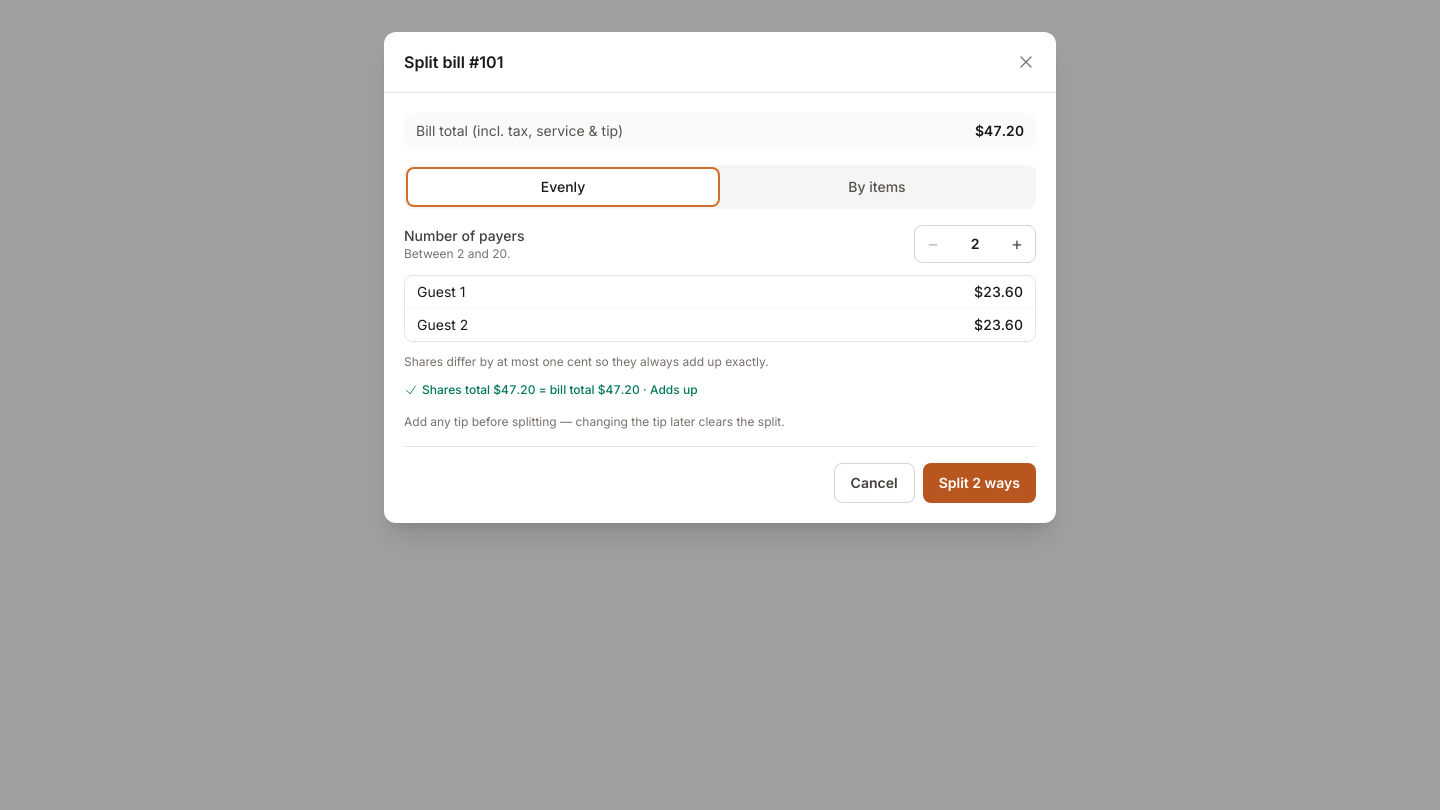
Scenario: SplitDialog › returns items to unassigned when their guest is removed
The image size is (1440, 810).
Click the tab "By items" at coordinates (877, 187), box 722,169 -> 1032,205
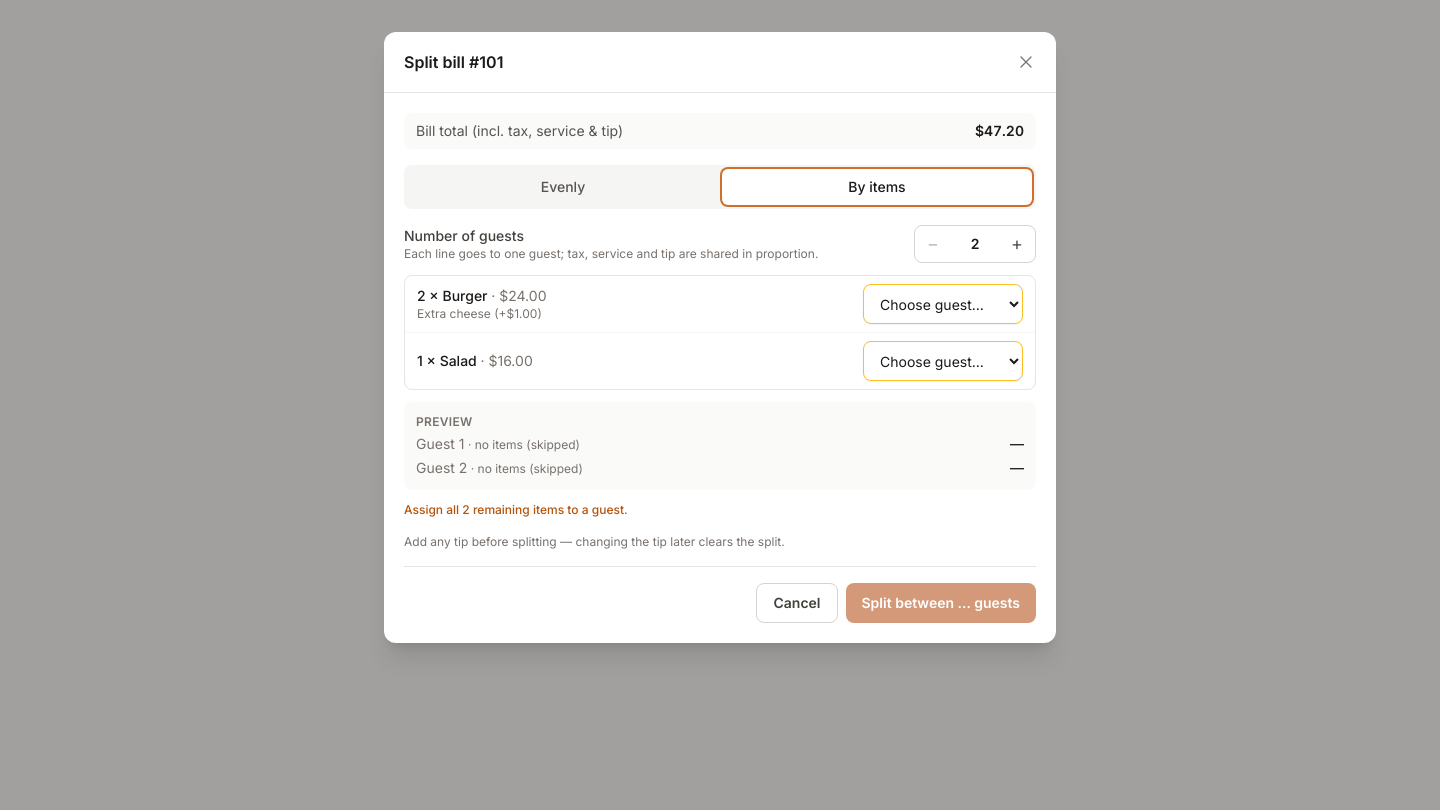
Click the button named "More guests" at coordinates (1017, 244), box 999,226 -> 1035,262
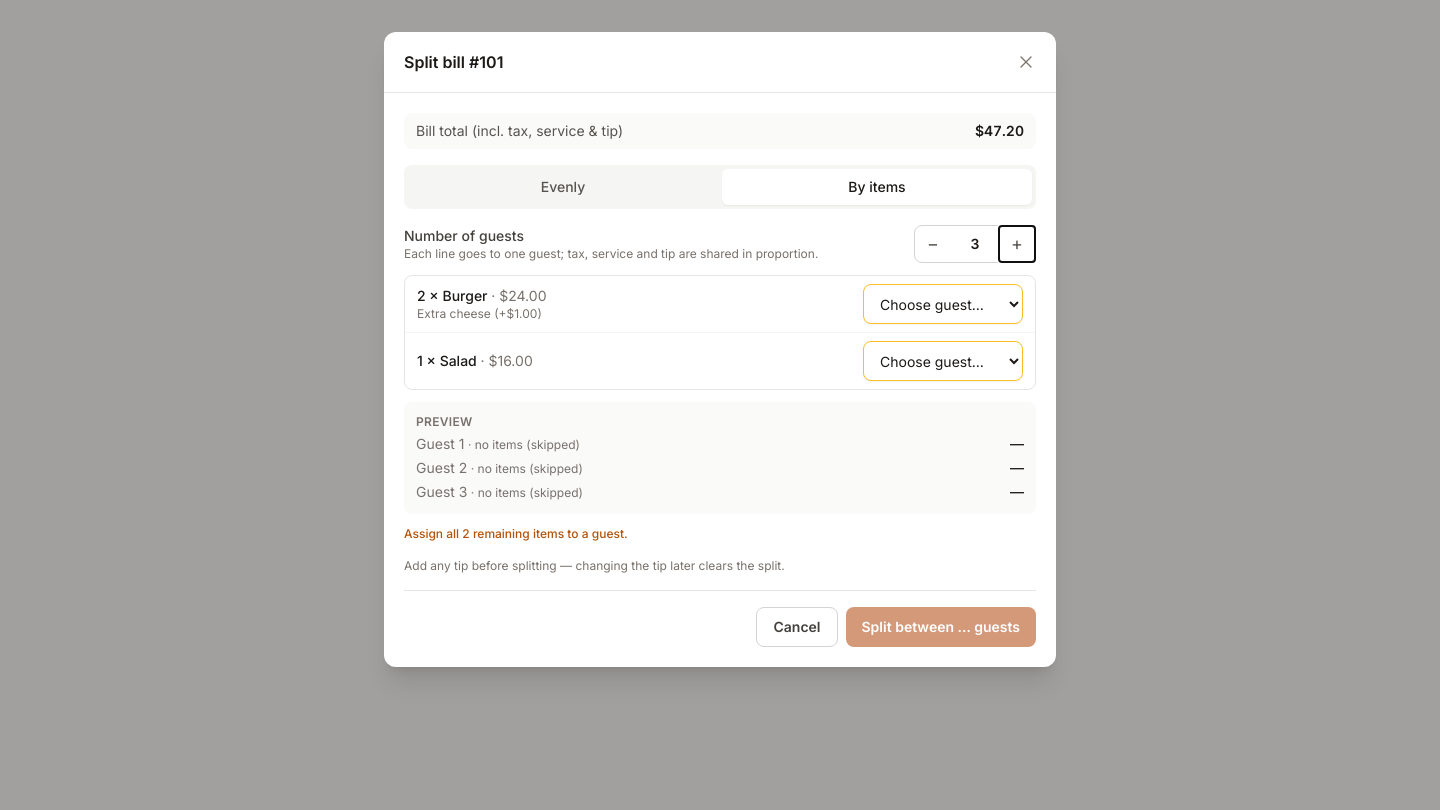
Select "Guest 1" in the dropdown named "Guest paying for Burger" at coordinates (943, 304), box 863,284 -> 1023,324
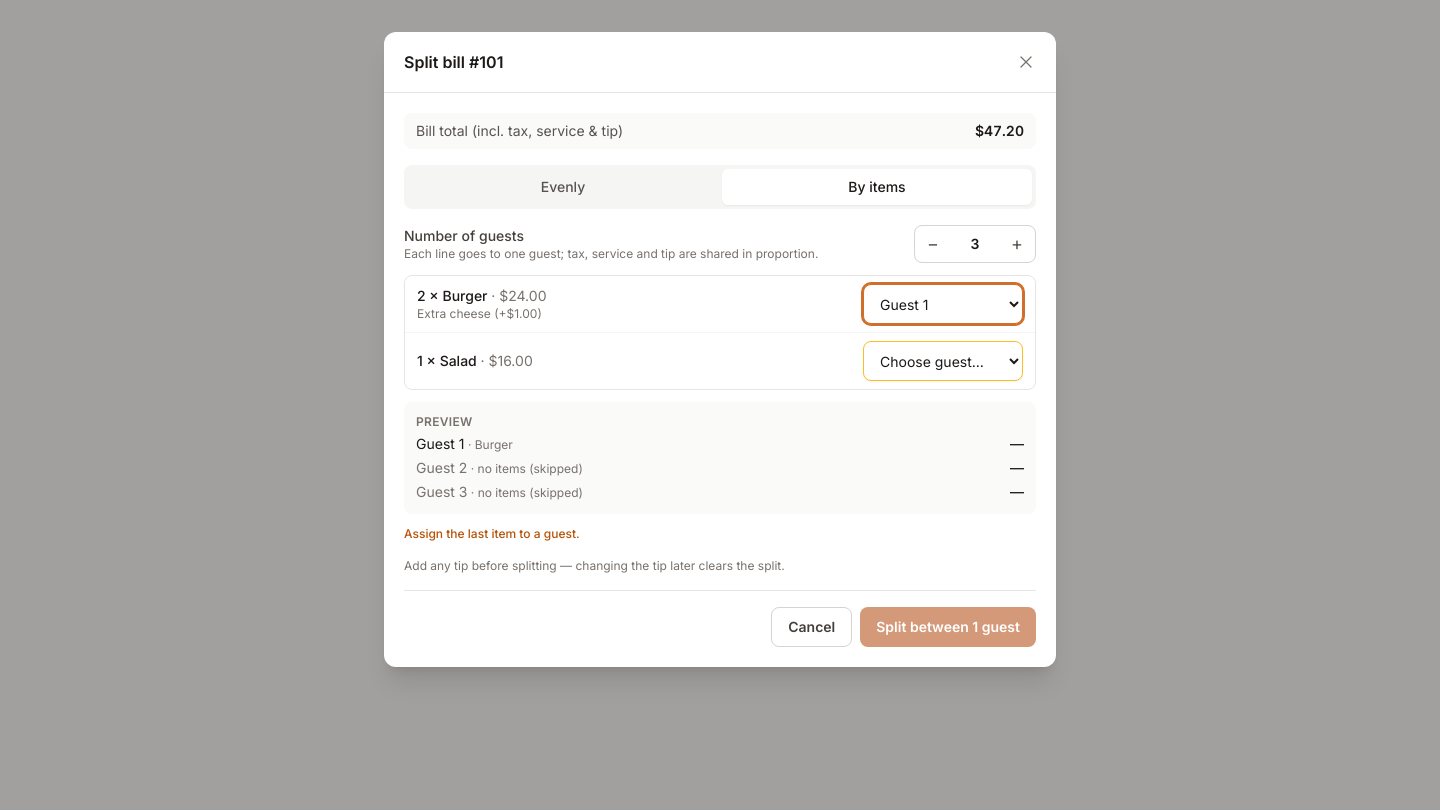
Select "Guest 3" in the dropdown named "Guest paying for Salad" at coordinates (943, 361), box 863,341 -> 1023,381
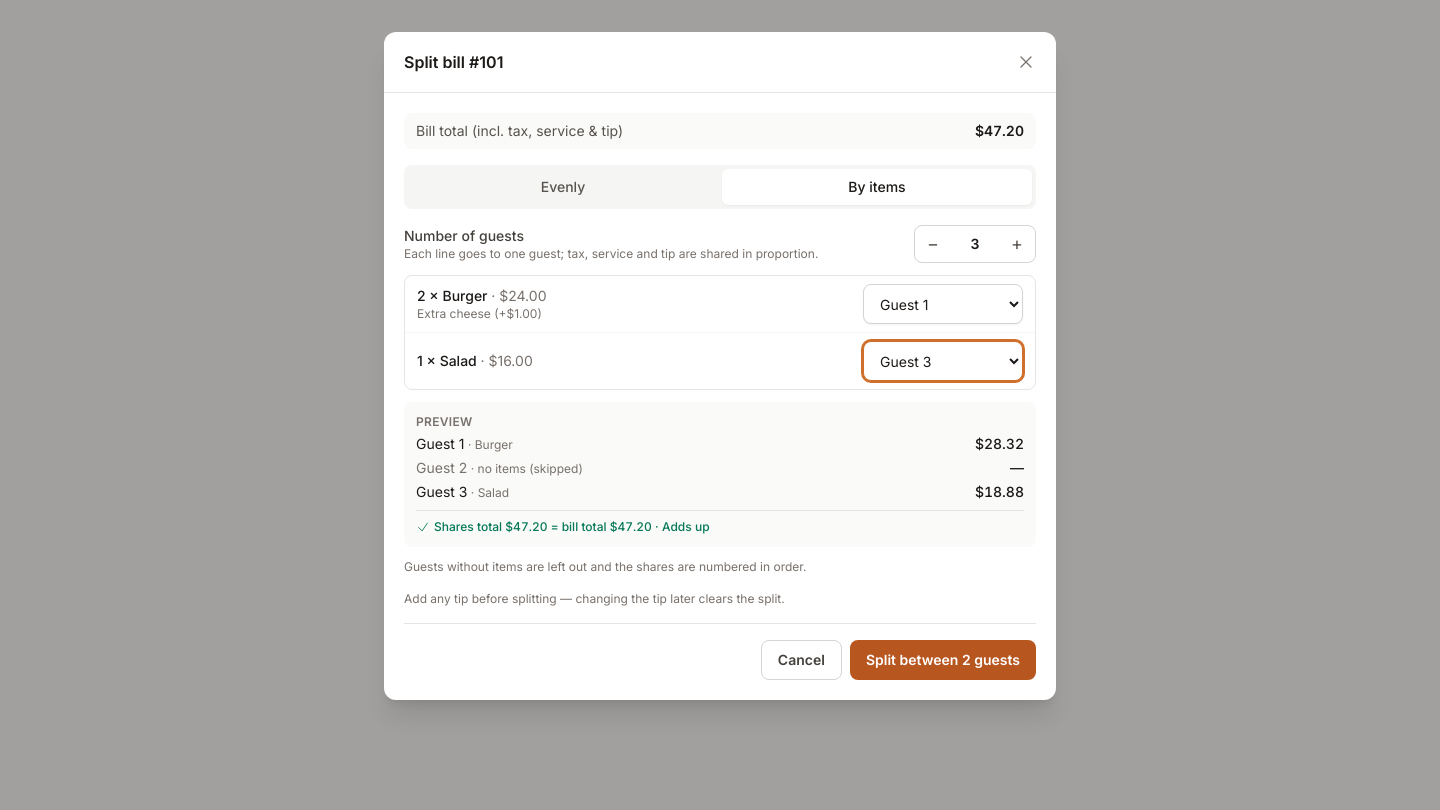
Click the button named "Fewer guests" at coordinates (933, 244), box 915,226 -> 951,262
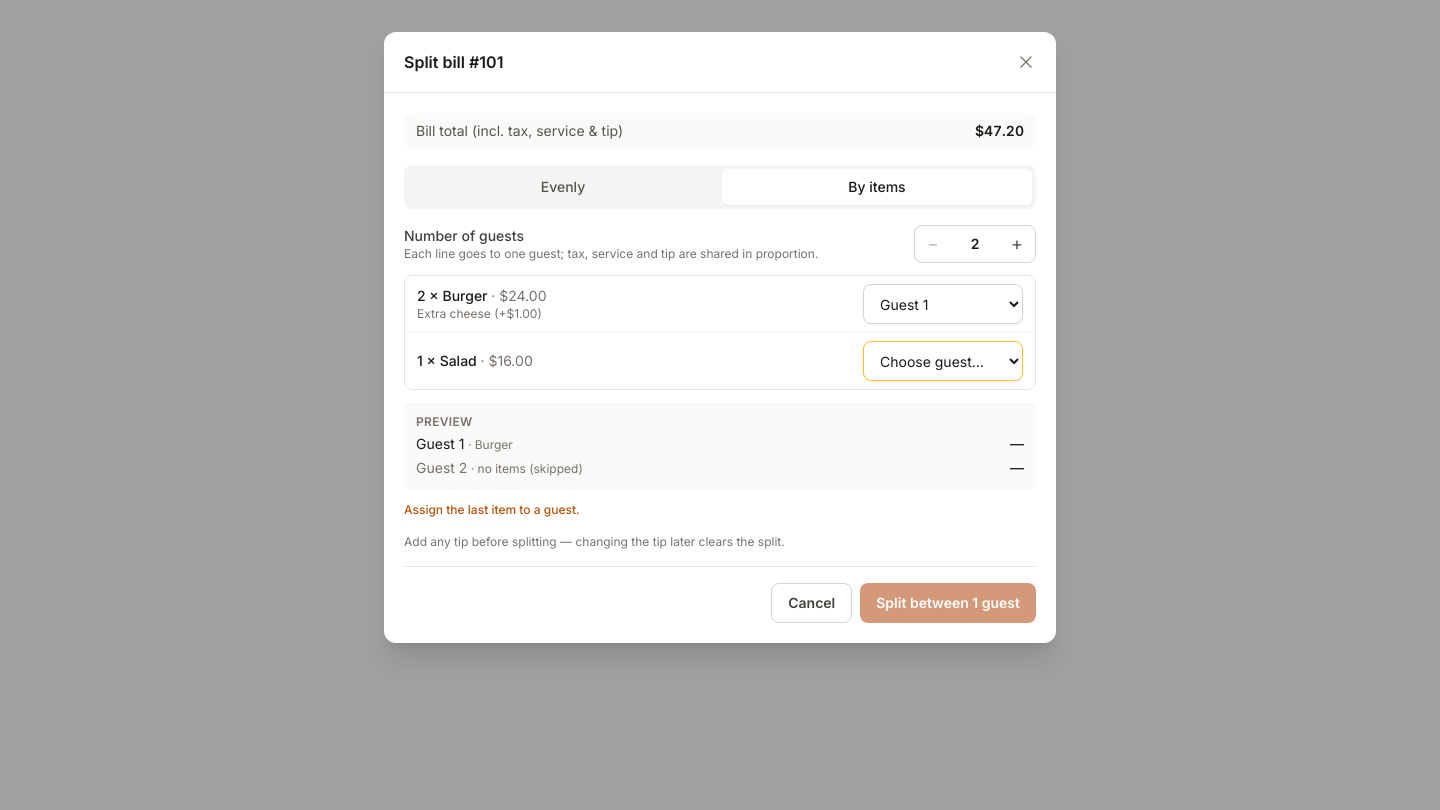
expect the text "Assign the last item to a guest." is shown: met, box 404,502 -> 580,517
